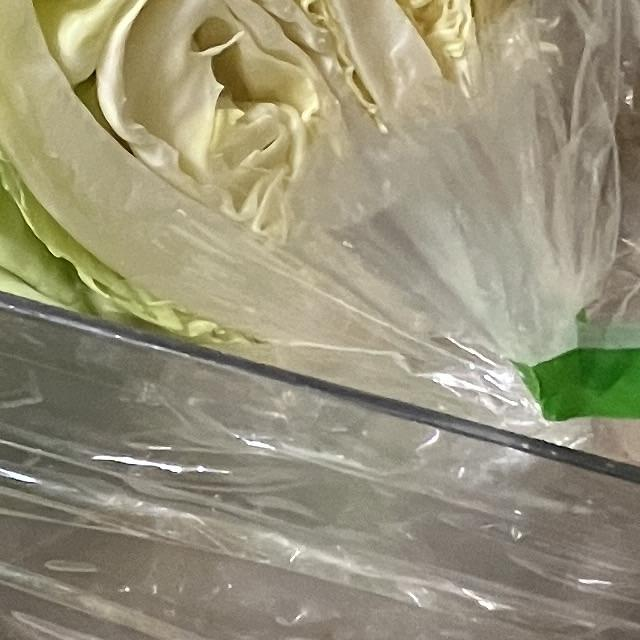cabbage: (0, 0, 640, 363)
